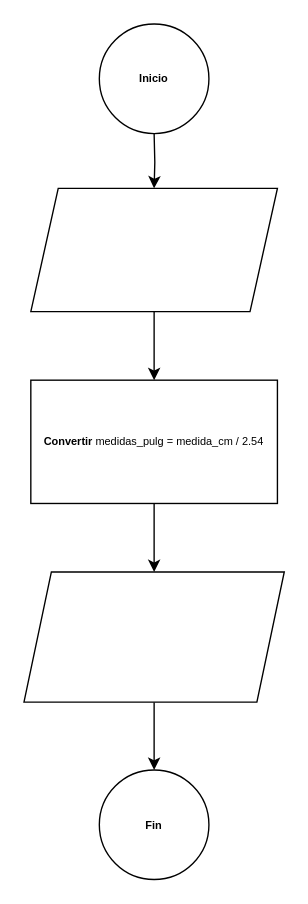
Some shapes in this 308 by 904 pixel diagram are drawn without their labels. Here are the shapes that lost their labels. From the top down, the centre of each, then its label:
(153,249): Mostrar mensaje : "Por favor, ingrese las medidas del mueble en cms: "
(153,636): Mostrar mensaje : "Los muebles poseen las siguientes medidas: ", medidas_pulg
